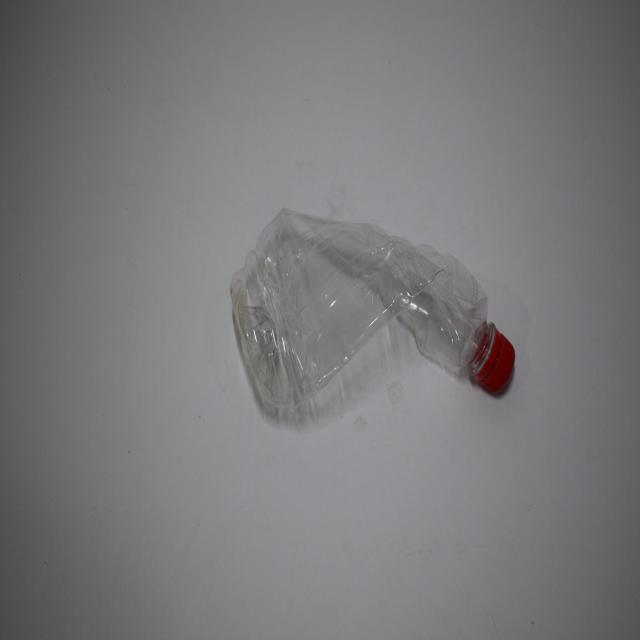bottle: (179, 204, 571, 438)
